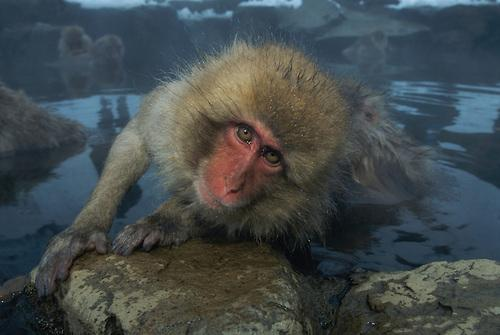monkey: (18, 46, 472, 301)
